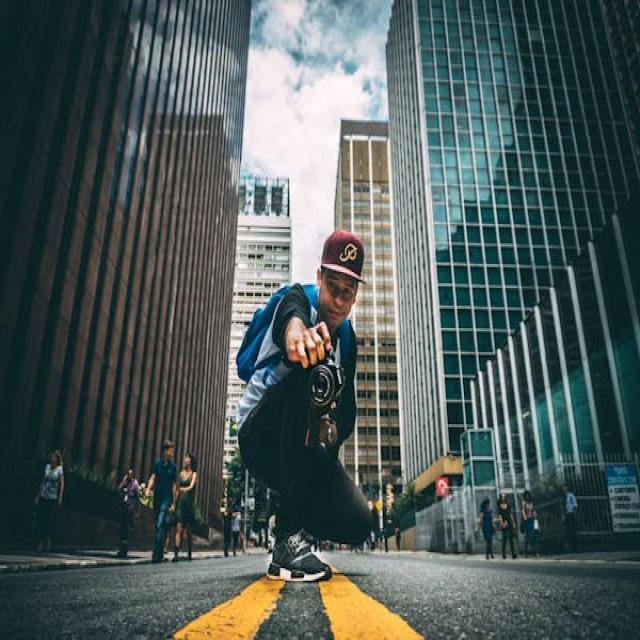Real human 2: (230, 214, 407, 597)
